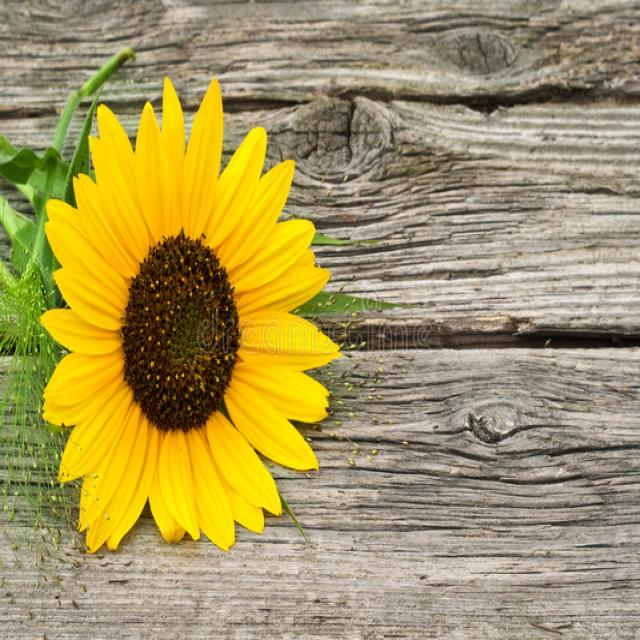sunflower: (28, 75, 346, 584)
